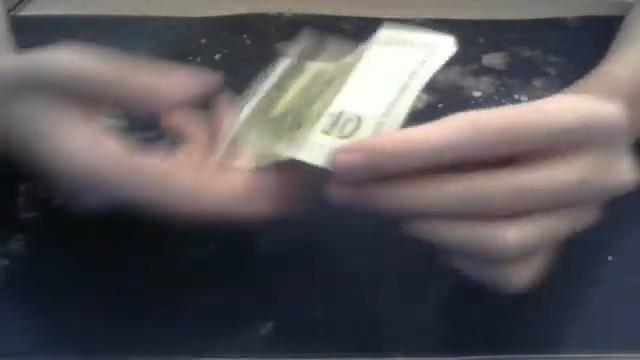10leva: (316, 104, 364, 140)
